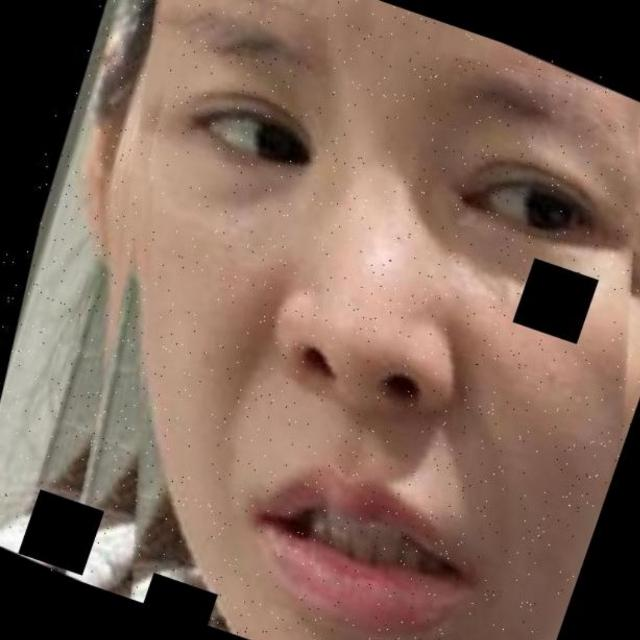Disgust: (135, 3, 629, 640)
